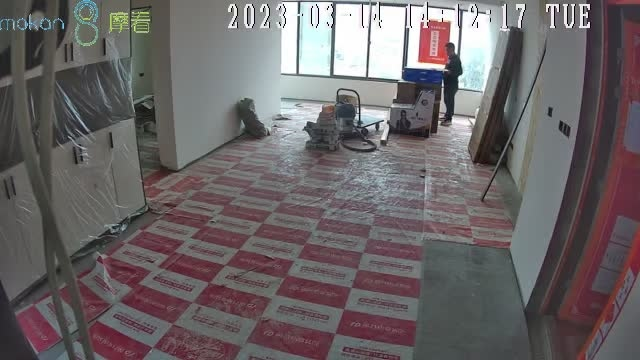people: (440, 42, 464, 125)
window: (280, 1, 495, 90)
